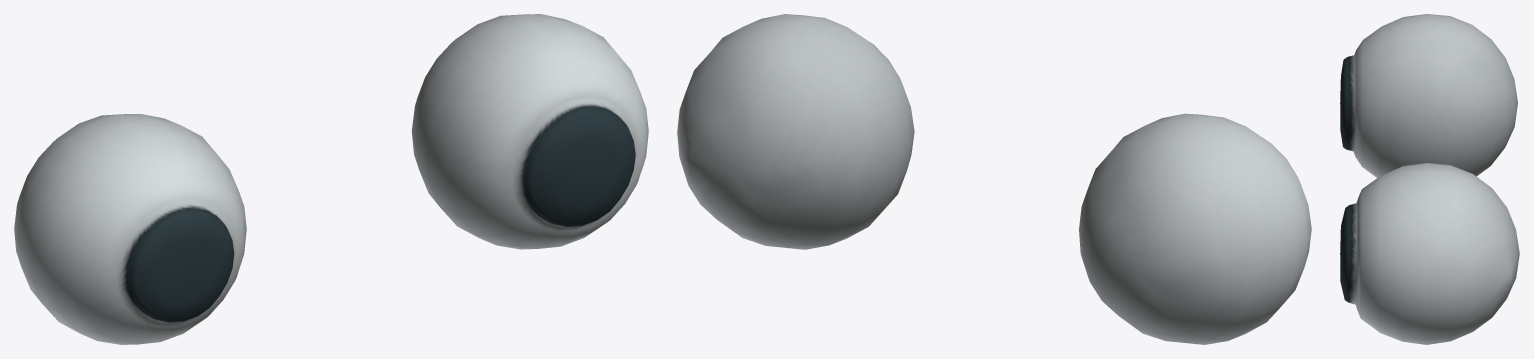
The model's file is Plasto_Head_Eyes.fbx.
3 renders of one model, left to right at view 1: azimuth 30°, elevation 25°; view 2: azimuth 150°, elevation 25°; view 3: azimuth 270°, elevation 25°, orthographic. The views are drawn at different scales.
Visible parts, largest first — view 1: Left_Eye, Right_Eye; view 2: Left_Eye, Right_Eye; view 3: Left_Eye, Right_Eye.
Boxes of the visible parts, box(x1,y1,x2,y2) form: Left_Eye: box(411, 14, 648, 249); Right_Eye: box(14, 114, 246, 344); Left_Eye: box(677, 14, 914, 249); Right_Eye: box(1079, 113, 1311, 344); Left_Eye: box(1340, 163, 1519, 344); Right_Eye: box(1340, 14, 1517, 177).
Size of the model in its own units: 0.2097 by 0.0713 by 0.0701.
